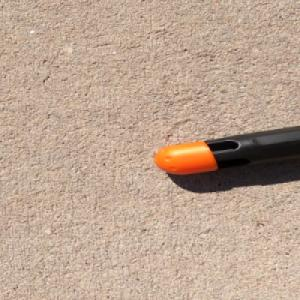PlasticPart: (153, 123, 300, 175)
